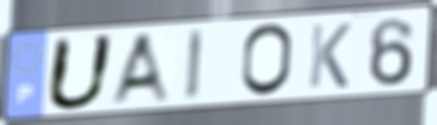6: (367, 15, 417, 88)
A: (106, 29, 176, 106)
I: (182, 26, 207, 105)
K: (305, 20, 354, 90)
O: (238, 21, 296, 99)
U: (42, 33, 119, 113)
